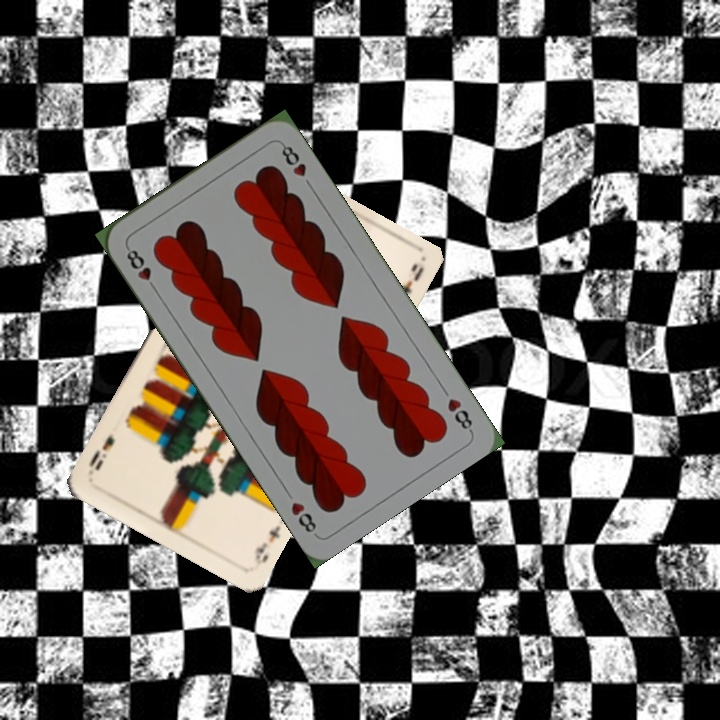E9: (250, 521, 283, 568)
H8: (122, 242, 160, 295), (443, 394, 475, 435)
